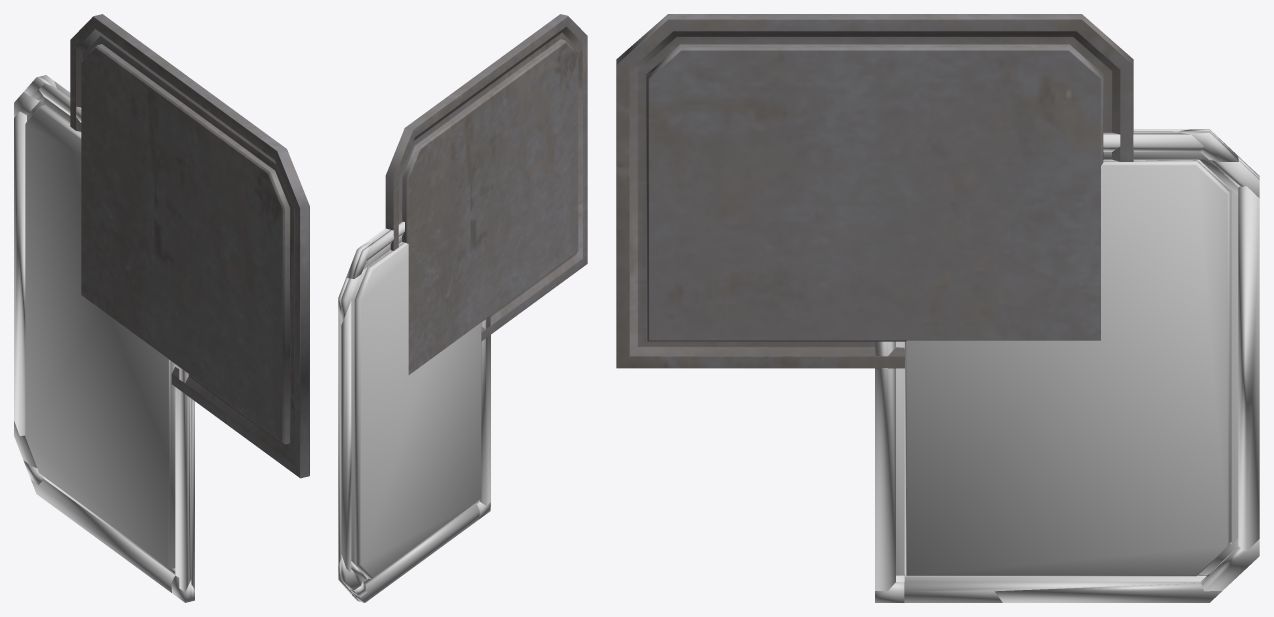
Rendered from SM_Gate.fbx.
The picture shows the model from 3 angles, left to right: view 1: azimuth 30°, elevation 25°; view 2: azimuth 150°, elevation 25°; view 3: azimuth 270°, elevation 25°; orthographic projection. The views are drawn at different scales.
Visible parts, largest first — view 1: SM_Gate, SM_Gate_ConvexHulls; view 2: SM_Gate, SM_Gate_ConvexHulls; view 3: SM_Gate, SM_Gate_ConvexHulls.
Boxes of the visible parts, x1,y1,x2,y2 form: SM_Gate: [70, 14, 309, 478]; SM_Gate_ConvexHulls: [14, 75, 194, 602]; SM_Gate: [385, 14, 587, 374]; SM_Gate_ConvexHulls: [338, 221, 490, 602]; SM_Gate: [616, 14, 1133, 368]; SM_Gate_ConvexHulls: [875, 129, 1259, 602].
Bounding box in the file's own units: 0.2391 × 7.27 × 7.26.
